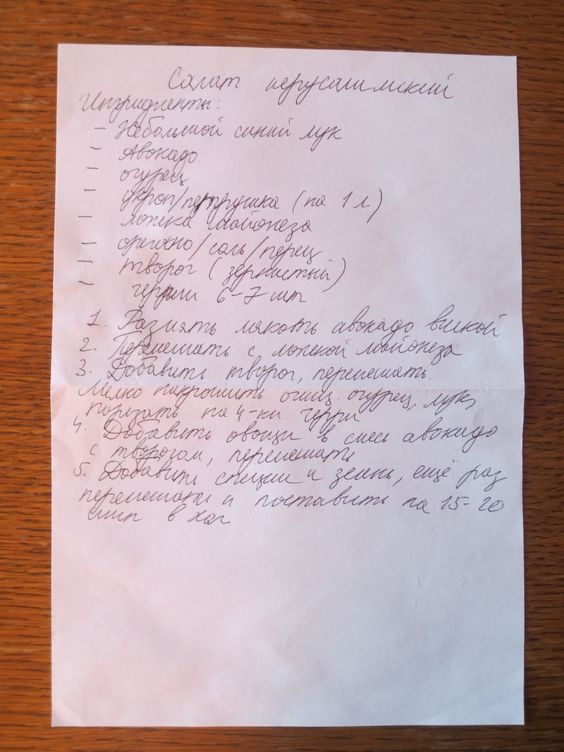page: (57, 57, 519, 721)
